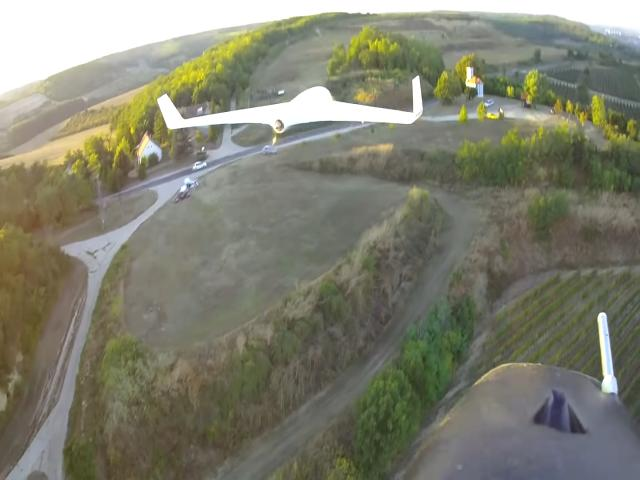plane: (158, 76, 424, 138)
